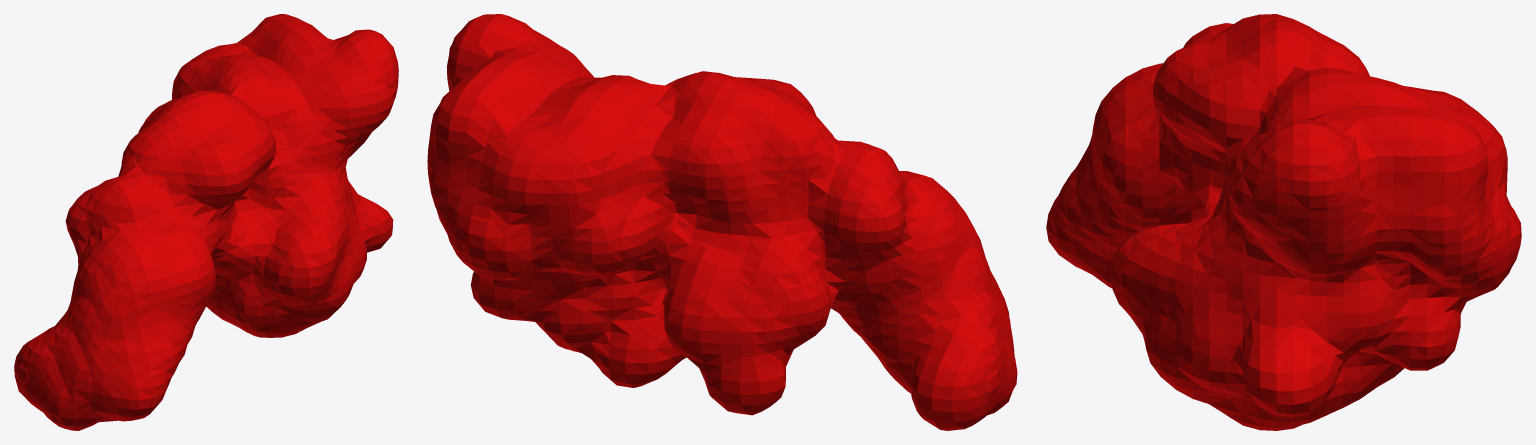
File: CoarseMS_1efg.dae
The picture shows the model from 3 angles, left to right: view 1: azimuth 30°, elevation 25°; view 2: azimuth 150°, elevation 25°; view 3: azimuth 270°, elevation 25°; orthographic projection. The views are drawn at different scales.
Visible parts, largest first — view 1: CoarseMS_1efg_Mesh; view 2: CoarseMS_1efg_Mesh; view 3: CoarseMS_1efg_Mesh.
Part boxes in pixels (left/top/right/bottom): CoarseMS_1efg_Mesh: left=14, top=14, right=398, bottom=430; CoarseMS_1efg_Mesh: left=427, top=14, right=1017, bottom=430; CoarseMS_1efg_Mesh: left=1046, top=14, right=1521, bottom=430.
Size of the model in its own units: 107 by 78.39 by 69.53.
